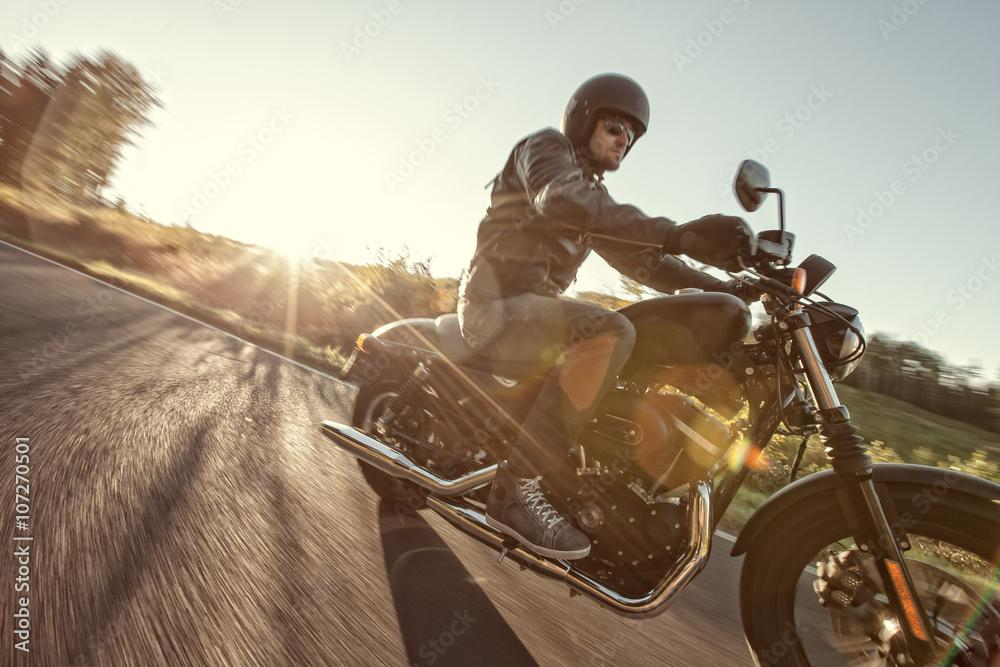helmet: (559, 71, 651, 183)
